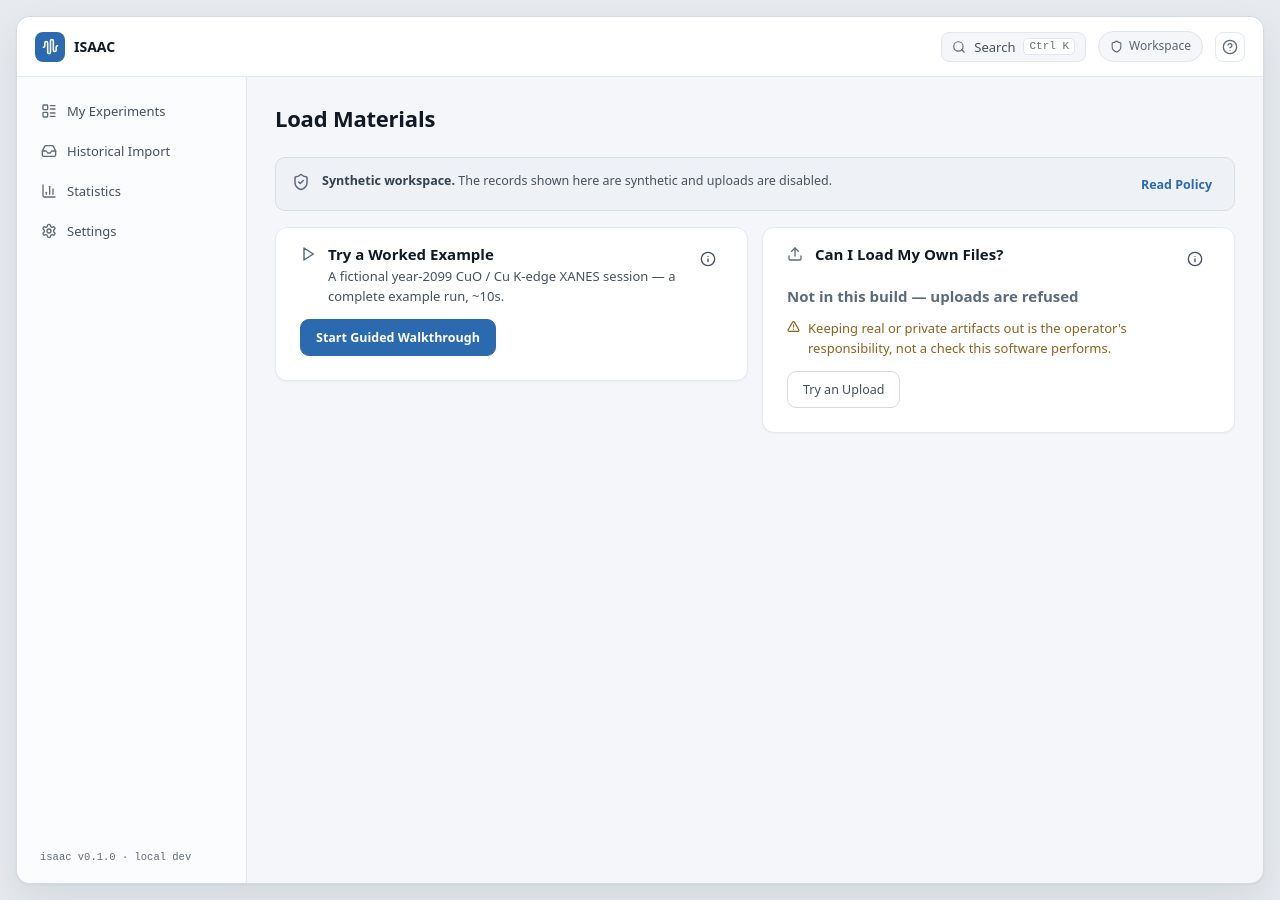
it: B-05 · /load outside a worked-example session › is disabled while a session is opening, so a second press cannot orphan one
Click the button "Start Guided Walkthrough" at (398, 337), box [300, 319, 496, 356]
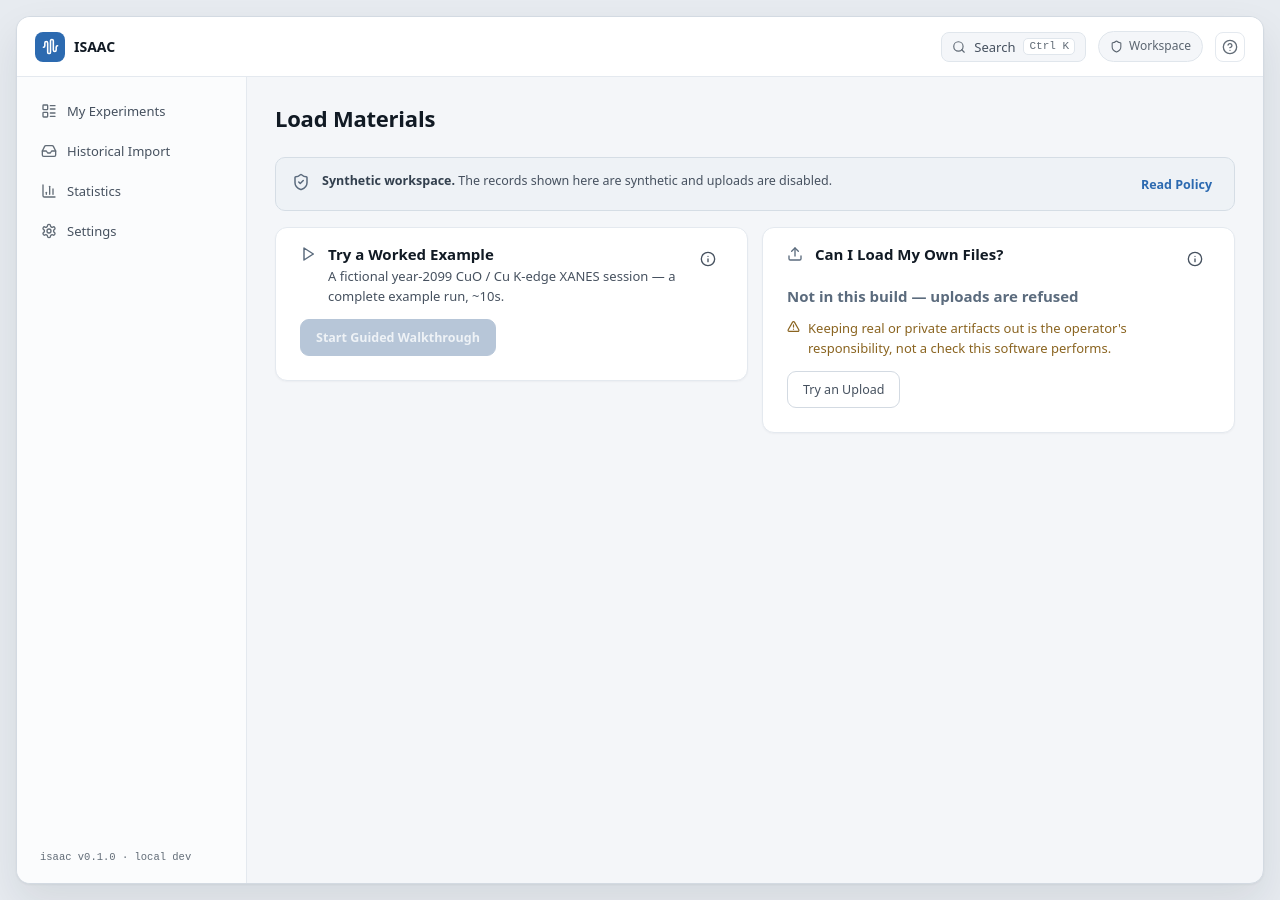
Now the button "Start Guided Walkthrough" is disabled, box [300, 319, 496, 356]
